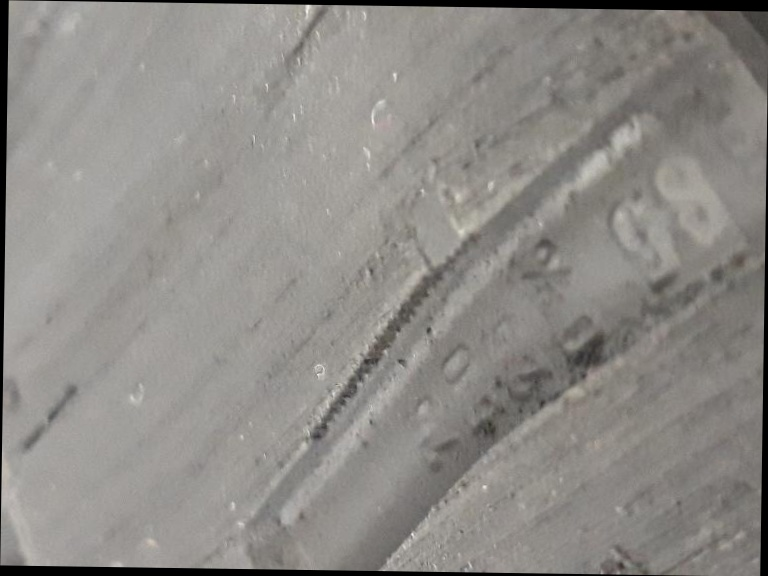temoin:0: (394, 186, 485, 302)
